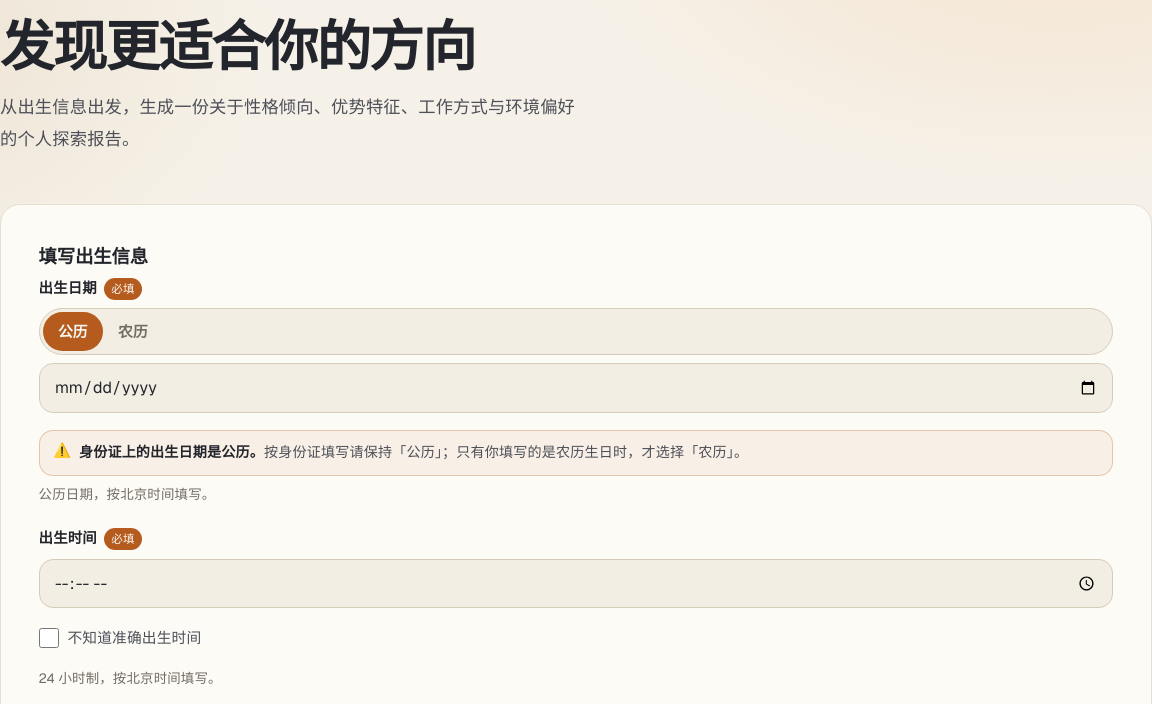
Scenario: sends the birth date, time and region, then renders the streamed report
The width and height of the screenshot is (1152, 704).
Check: the heading "发现更适合你的方向" is shown, box 0,11 -> 475,82
Check: the text "填写出生信息" is shown, box 39,242 -> 148,272
In the date field labelled "出生日期": (576,388) 39,363 -> 1113,413, type "1977-09-03"
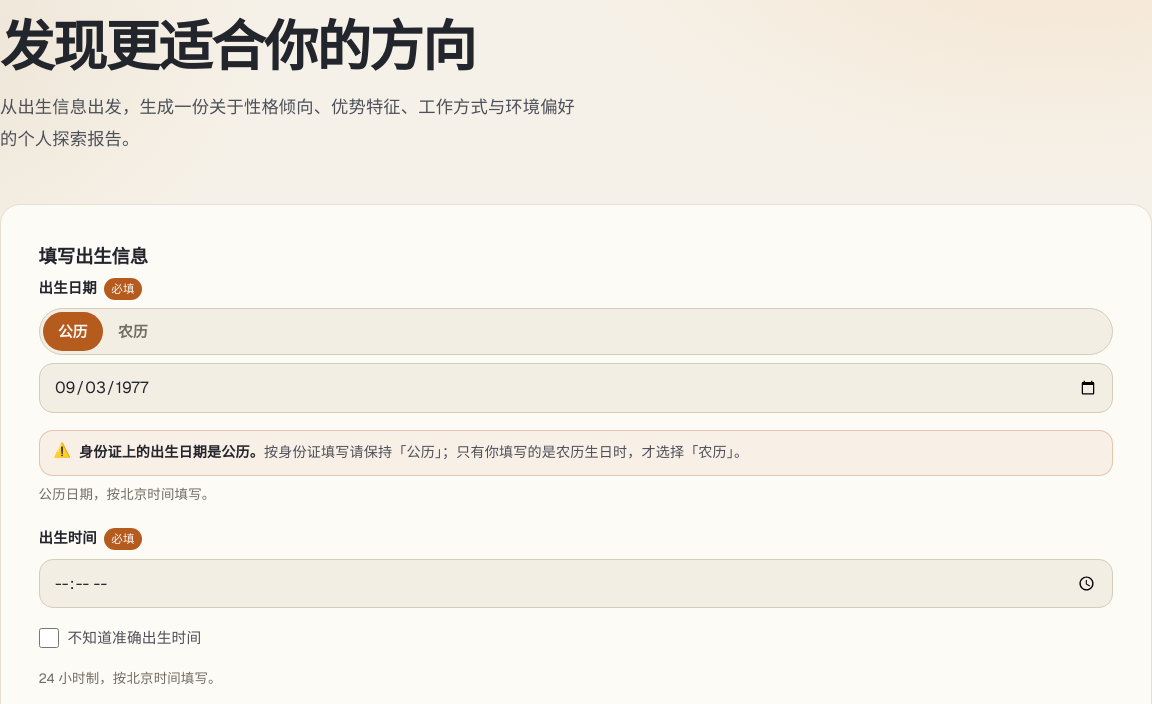
In the time field labelled "出生时间": (576,583) 39,558 -> 1113,608, type "13:30"
(page scrolled)
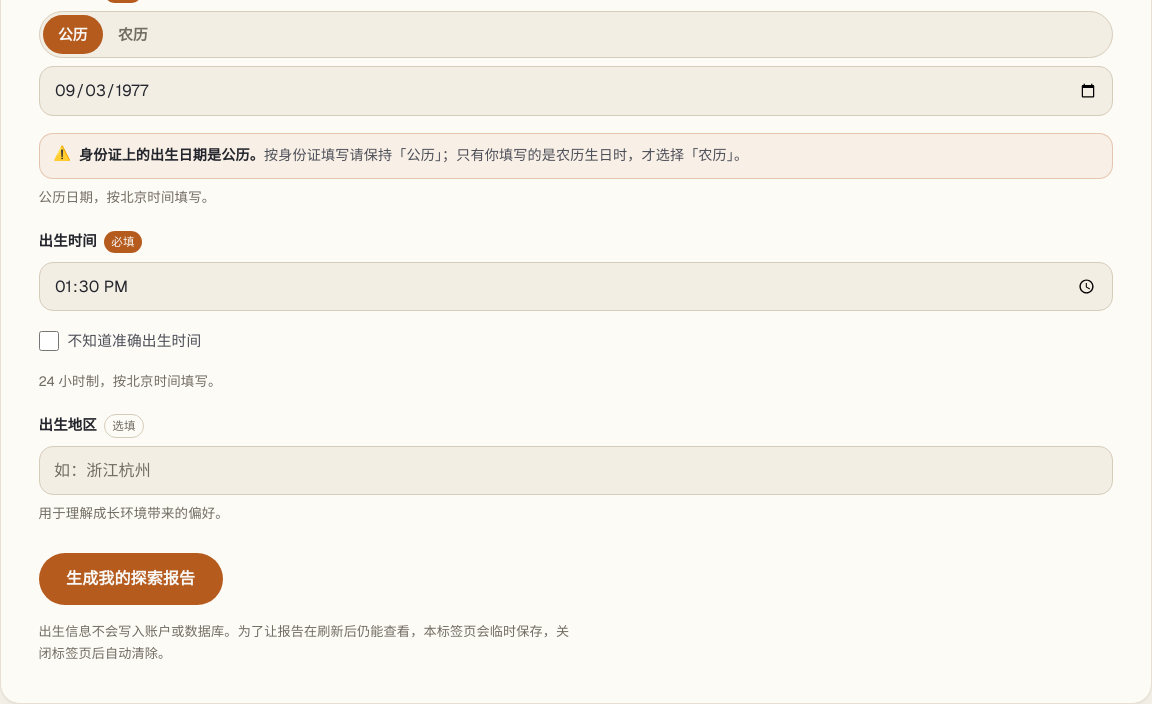
In the field labelled "出生地区": (576,471) 39,446 -> 1113,495, type "浙江杭州"
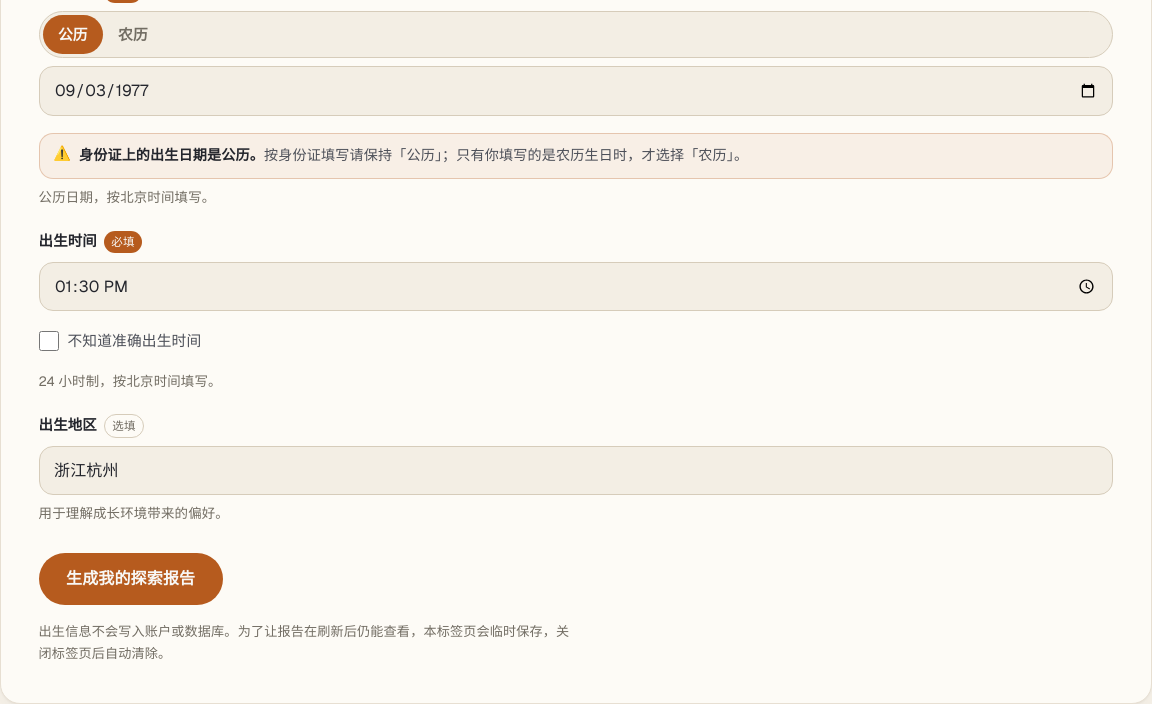
Click the button "生成我的探索报告": (131,579) 39,553 -> 223,605
(page scrolled)
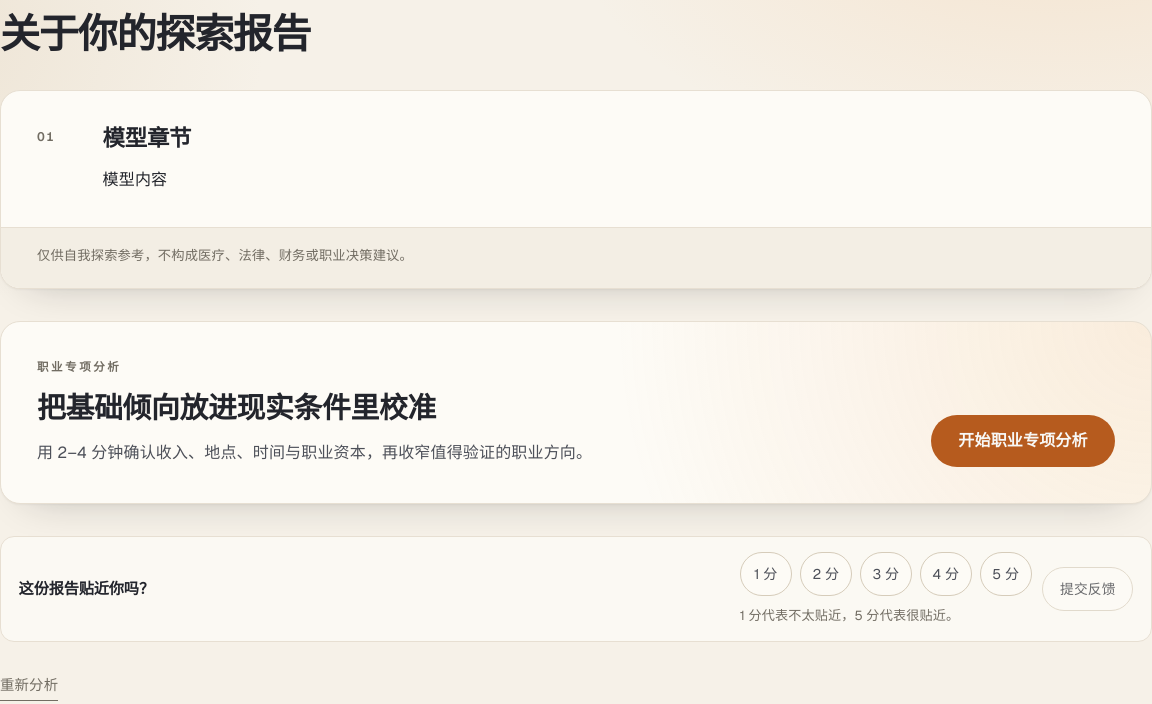
Check: the heading "模型章节" is shown, box 103,123 -> 191,153
Check: the button "开始职业专项分析" is shown, box 931,415 -> 1115,467
